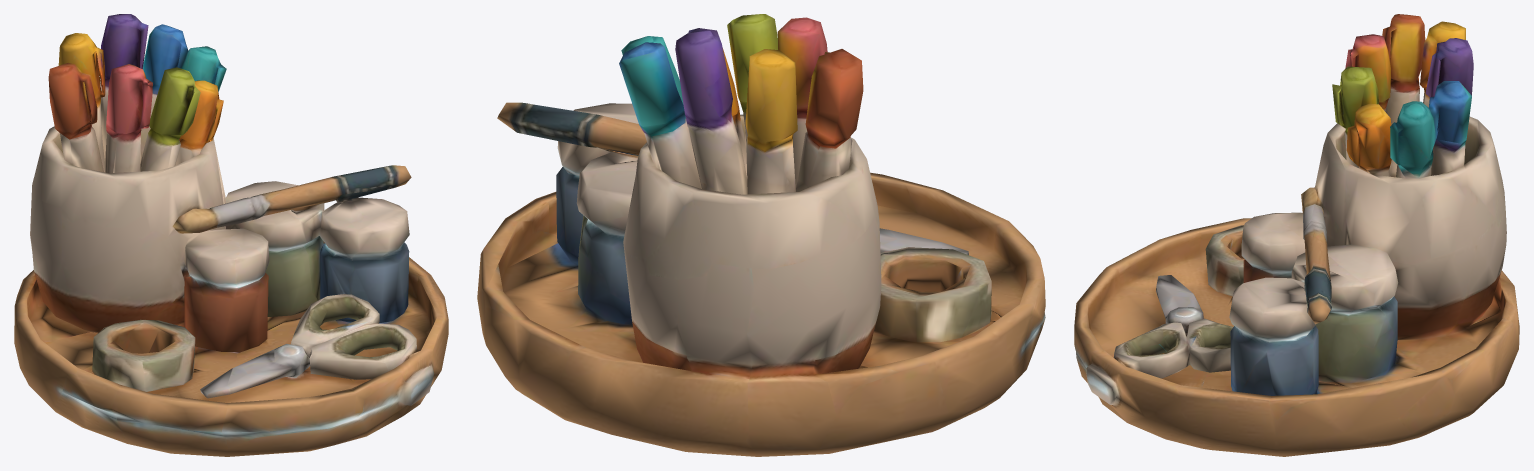
File: art-supplies.medium.glb
The picture shows the model from 3 angles, left to right: view 1: azimuth 30°, elevation 25°; view 2: azimuth 150°, elevation 25°; view 3: azimuth 270°, elevation 25°; orthographic projection. The views are drawn at different scales.
Parts seen in each view (by area): view 1: tripo_node_44a76097-e6d3-4ae5-a54f-7d31e9ec1bc3; view 2: tripo_node_44a76097-e6d3-4ae5-a54f-7d31e9ec1bc3; view 3: tripo_node_44a76097-e6d3-4ae5-a54f-7d31e9ec1bc3.
Part boxes in pixels (x1,y1,x2,y2): tripo_node_44a76097-e6d3-4ae5-a54f-7d31e9ec1bc3: (14, 14, 448, 456); tripo_node_44a76097-e6d3-4ae5-a54f-7d31e9ec1bc3: (477, 14, 1045, 456); tripo_node_44a76097-e6d3-4ae5-a54f-7d31e9ec1bc3: (1074, 14, 1519, 456).
Size of the model in its own units: 0.419 by 0.3329 by 0.417.
Materials: 1 (1 with a texture image).
